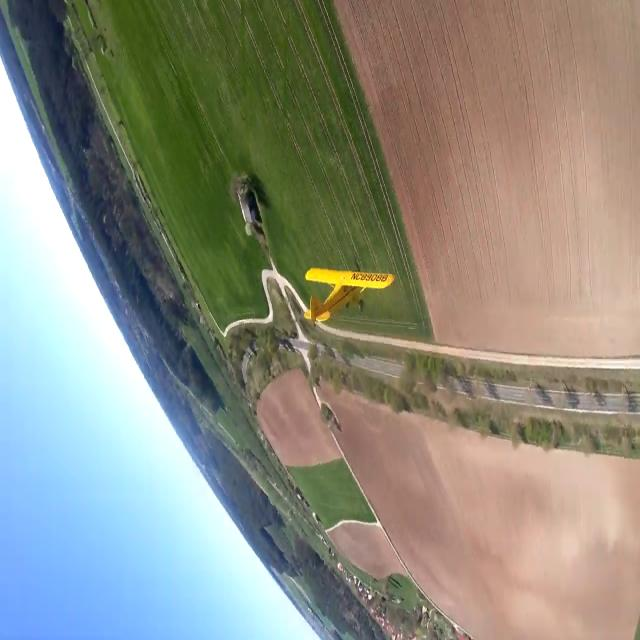iha: (336, 294, 364, 298)
